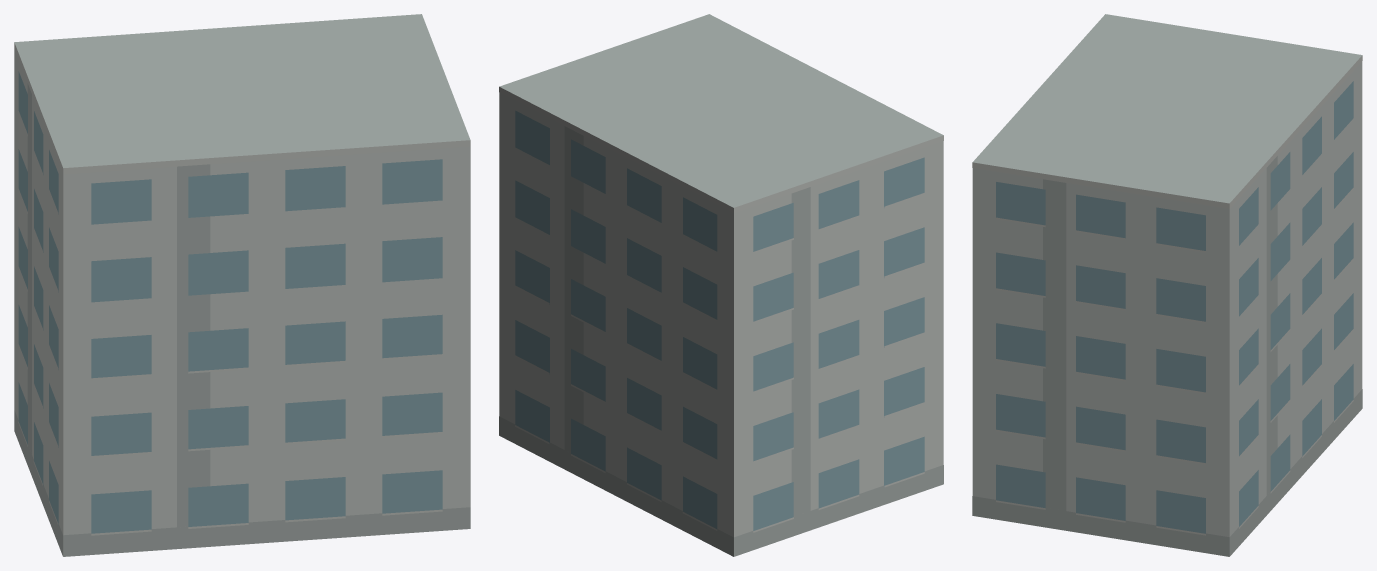
File: residential-b6800601-af16-4ca8-85a0-1c34a2e5ab18.glb
3 renders of one model, left to right at view 1: azimuth 30°, elevation 25°; view 2: azimuth 150°, elevation 25°; view 3: azimuth 270°, elevation 25°, orthographic. The views are drawn at different scales.
Visible parts, largest first — view 1: residential-b6800601-af16-4ca8-85a0-1c34a2e5ab18.tmp; view 2: residential-b6800601-af16-4ca8-85a0-1c34a2e5ab18.tmp; view 3: residential-b6800601-af16-4ca8-85a0-1c34a2e5ab18.tmp.
Part boxes in pixels (box(x1,y1,x2,y2)): residential-b6800601-af16-4ca8-85a0-1c34a2e5ab18.tmp: box(14, 14, 470, 556); residential-b6800601-af16-4ca8-85a0-1c34a2e5ab18.tmp: box(499, 14, 943, 556); residential-b6800601-af16-4ca8-85a0-1c34a2e5ab18.tmp: box(972, 14, 1362, 556).
Size of the model in its own units: 17.54 by 15.25 by 15.26.
